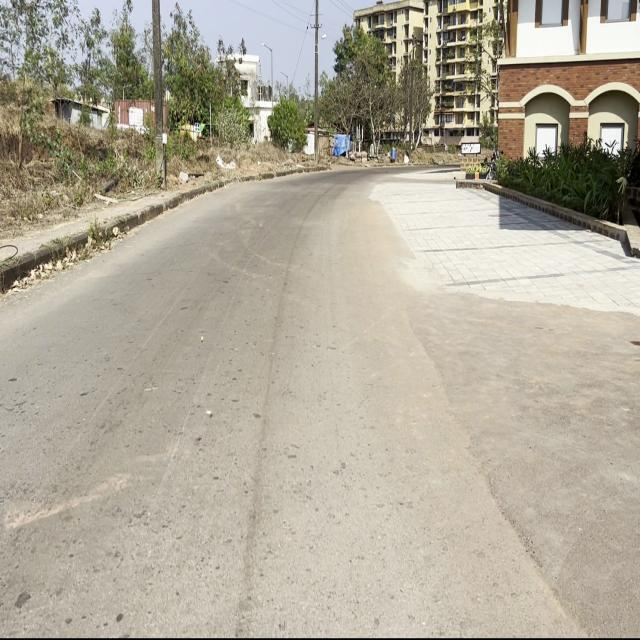Road: (0, 168, 579, 640)
